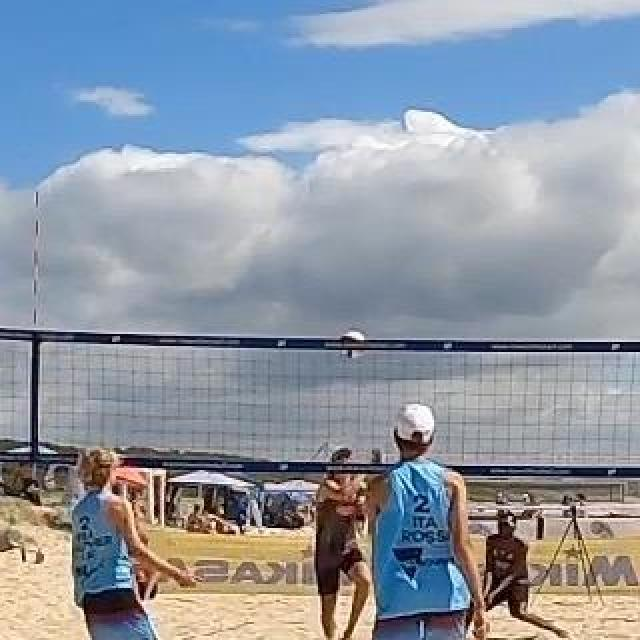volleyball: (341, 330, 367, 356)
